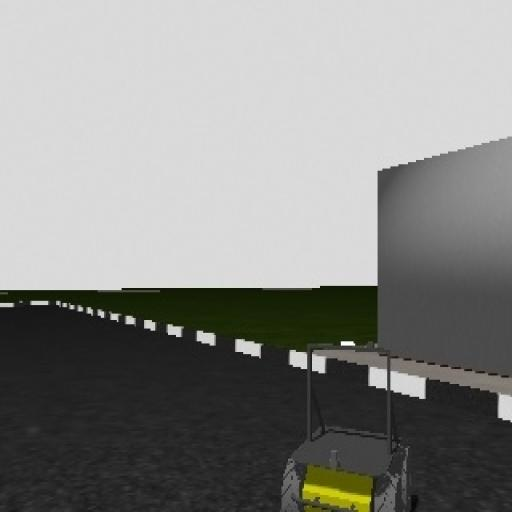huskya200: (277, 311, 416, 512)
